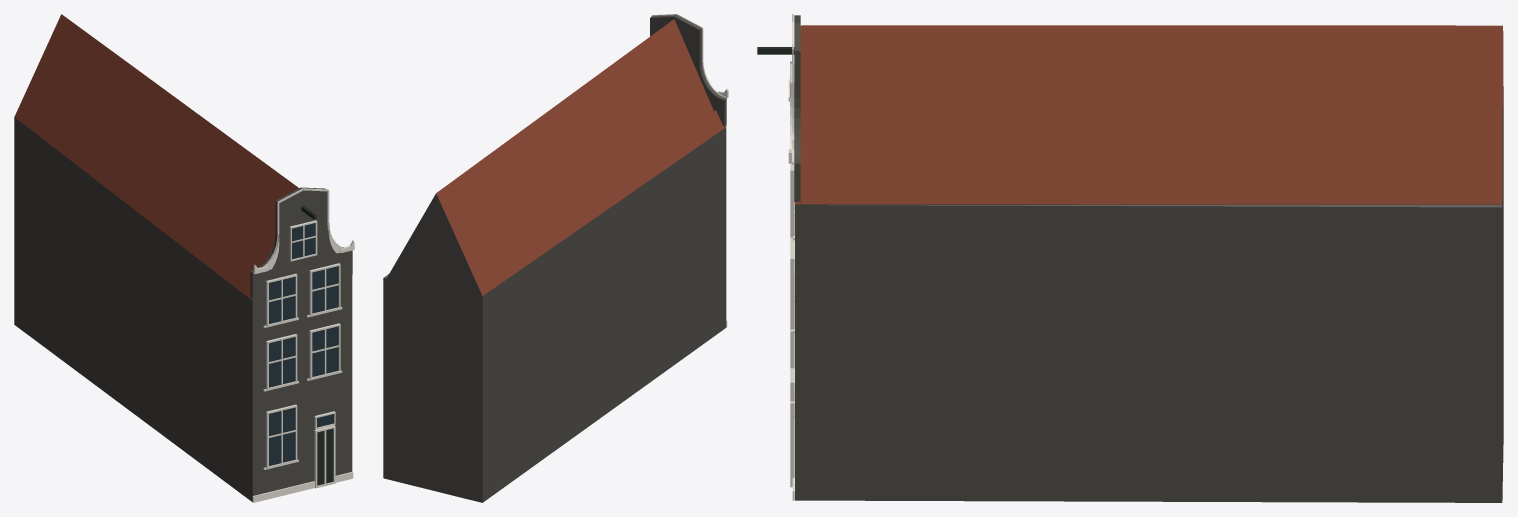
3 views of the same model, side by side, from view 1: azimuth 30°, elevation 25°; view 2: azimuth 150°, elevation 25°; view 3: azimuth 270°, elevation 25° (orthographic). The views are drawn at different scales.
Parts seen in each view (by area): view 1: spec-0363100012169006; view 2: spec-0363100012169006; view 3: spec-0363100012169006.
Boxes of the visible parts, x1=… form: spec-0363100012169006: x1=14, y1=14, x2=354, y2=502; spec-0363100012169006: x1=383, y1=14, x2=728, y2=502; spec-0363100012169006: x1=757, y1=14, x2=1503, y2=502.
Bounding box in the file's own units: 5.09 × 14.22 × 21.71.
